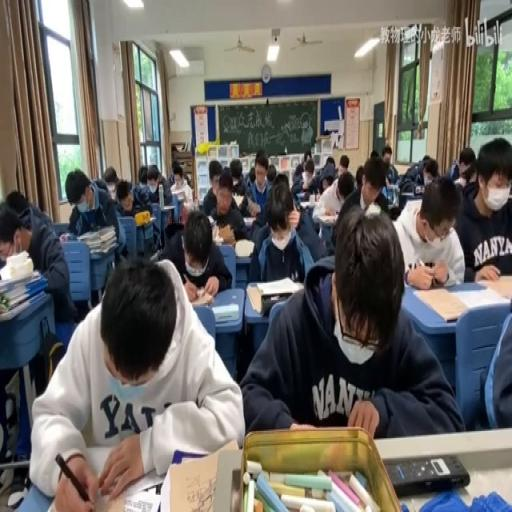calculator: (162, 439, 240, 512), (453, 284, 507, 310), (254, 274, 302, 294), (244, 283, 262, 313), (212, 302, 238, 322), (398, 189, 421, 211), (185, 290, 213, 307), (233, 238, 254, 256), (314, 209, 338, 222), (382, 185, 396, 203), (133, 215, 155, 226), (232, 194, 246, 208), (242, 214, 256, 224), (299, 199, 312, 208), (58, 232, 72, 240), (206, 215, 216, 226), (212, 236, 222, 245), (160, 204, 174, 210)
paper: (30, 256, 244, 508), (242, 205, 460, 439), (0, 196, 76, 330), (454, 138, 512, 283), (67, 168, 125, 276), (161, 206, 229, 297), (336, 152, 393, 238), (482, 303, 511, 429), (243, 152, 275, 222), (401, 152, 441, 198), (201, 158, 225, 219), (169, 161, 193, 222), (115, 178, 147, 219), (142, 162, 172, 205), (450, 148, 476, 188), (290, 160, 312, 204), (5, 189, 31, 226), (228, 157, 246, 199), (381, 144, 398, 184), (336, 170, 354, 200), (89, 178, 105, 199), (102, 165, 116, 186), (338, 154, 350, 175), (354, 164, 364, 186), (274, 171, 288, 186), (266, 164, 276, 184), (138, 165, 148, 185), (183, 170, 192, 188), (166, 165, 174, 185), (302, 150, 312, 164), (320, 180, 330, 194), (325, 156, 334, 170), (248, 165, 255, 181), (370, 148, 378, 158), (422, 154, 428, 162)
person: (386, 454, 470, 496), (261, 292, 293, 314)
